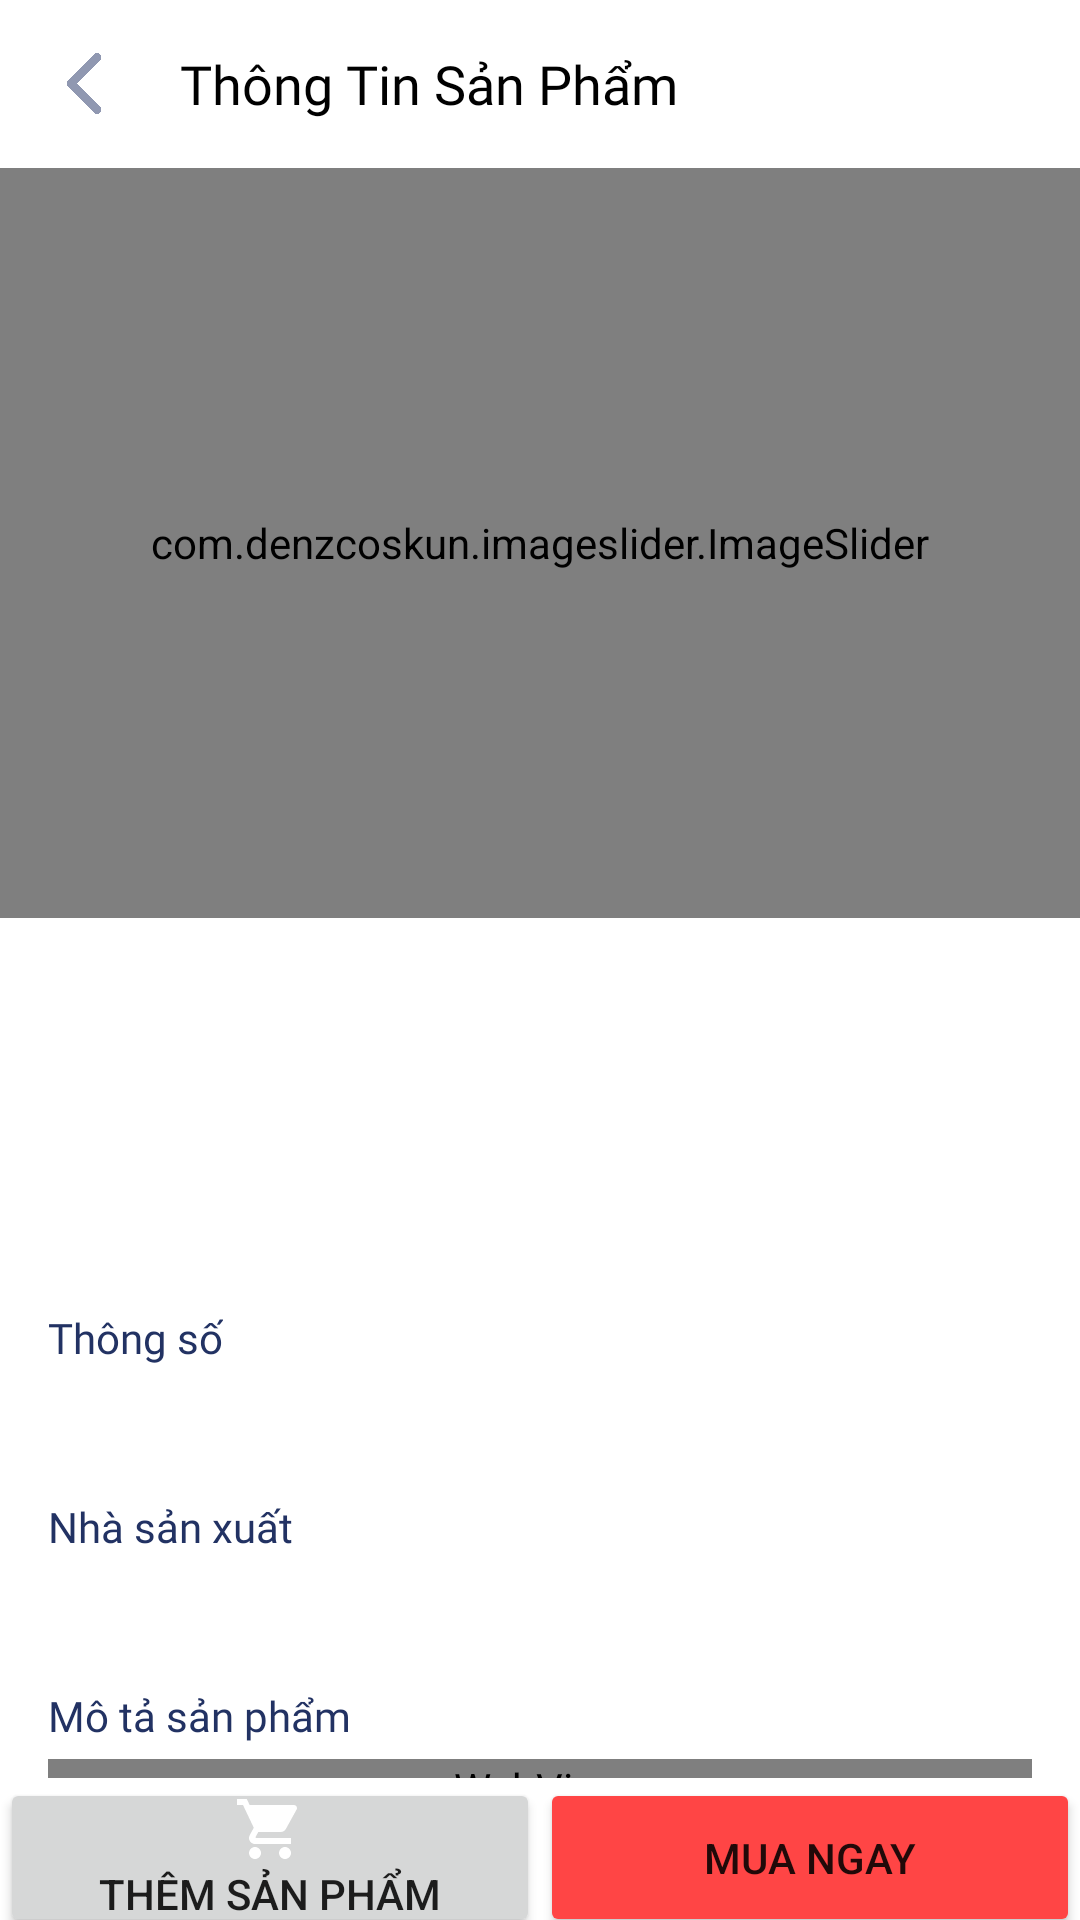

Named icons in this screenshot (1080px x 1920px) and their bounding boxes, (x1, y1, x2, y2):
arrow: (67, 53, 101, 114)
